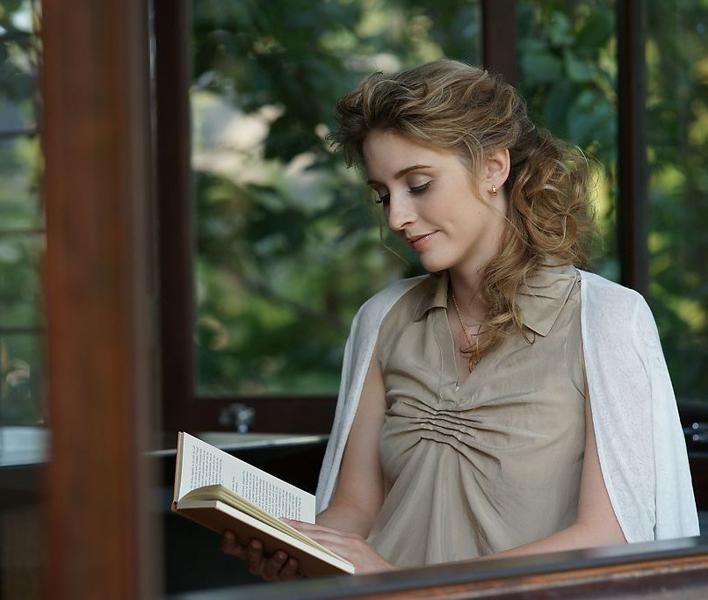person: (281, 61, 704, 579)
